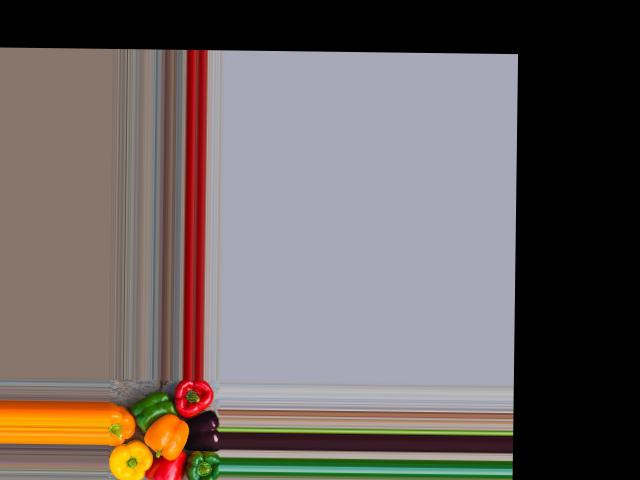bell_pepper: (108, 392, 145, 445)
